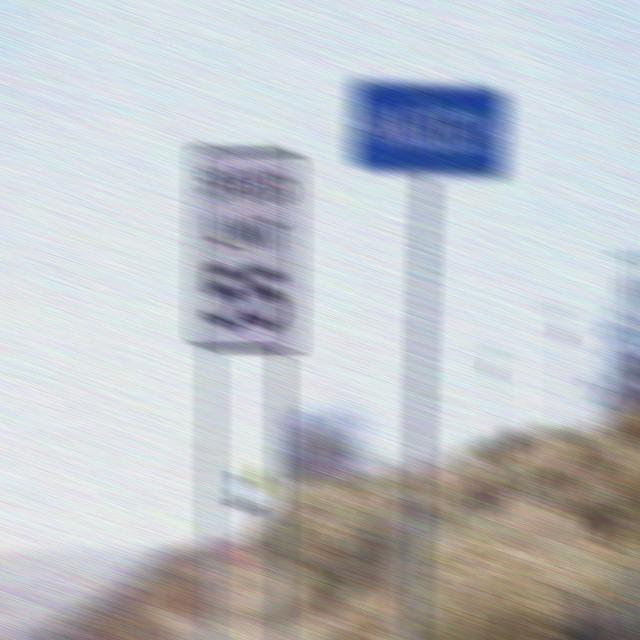speedLimit55: (186, 140, 298, 350)
